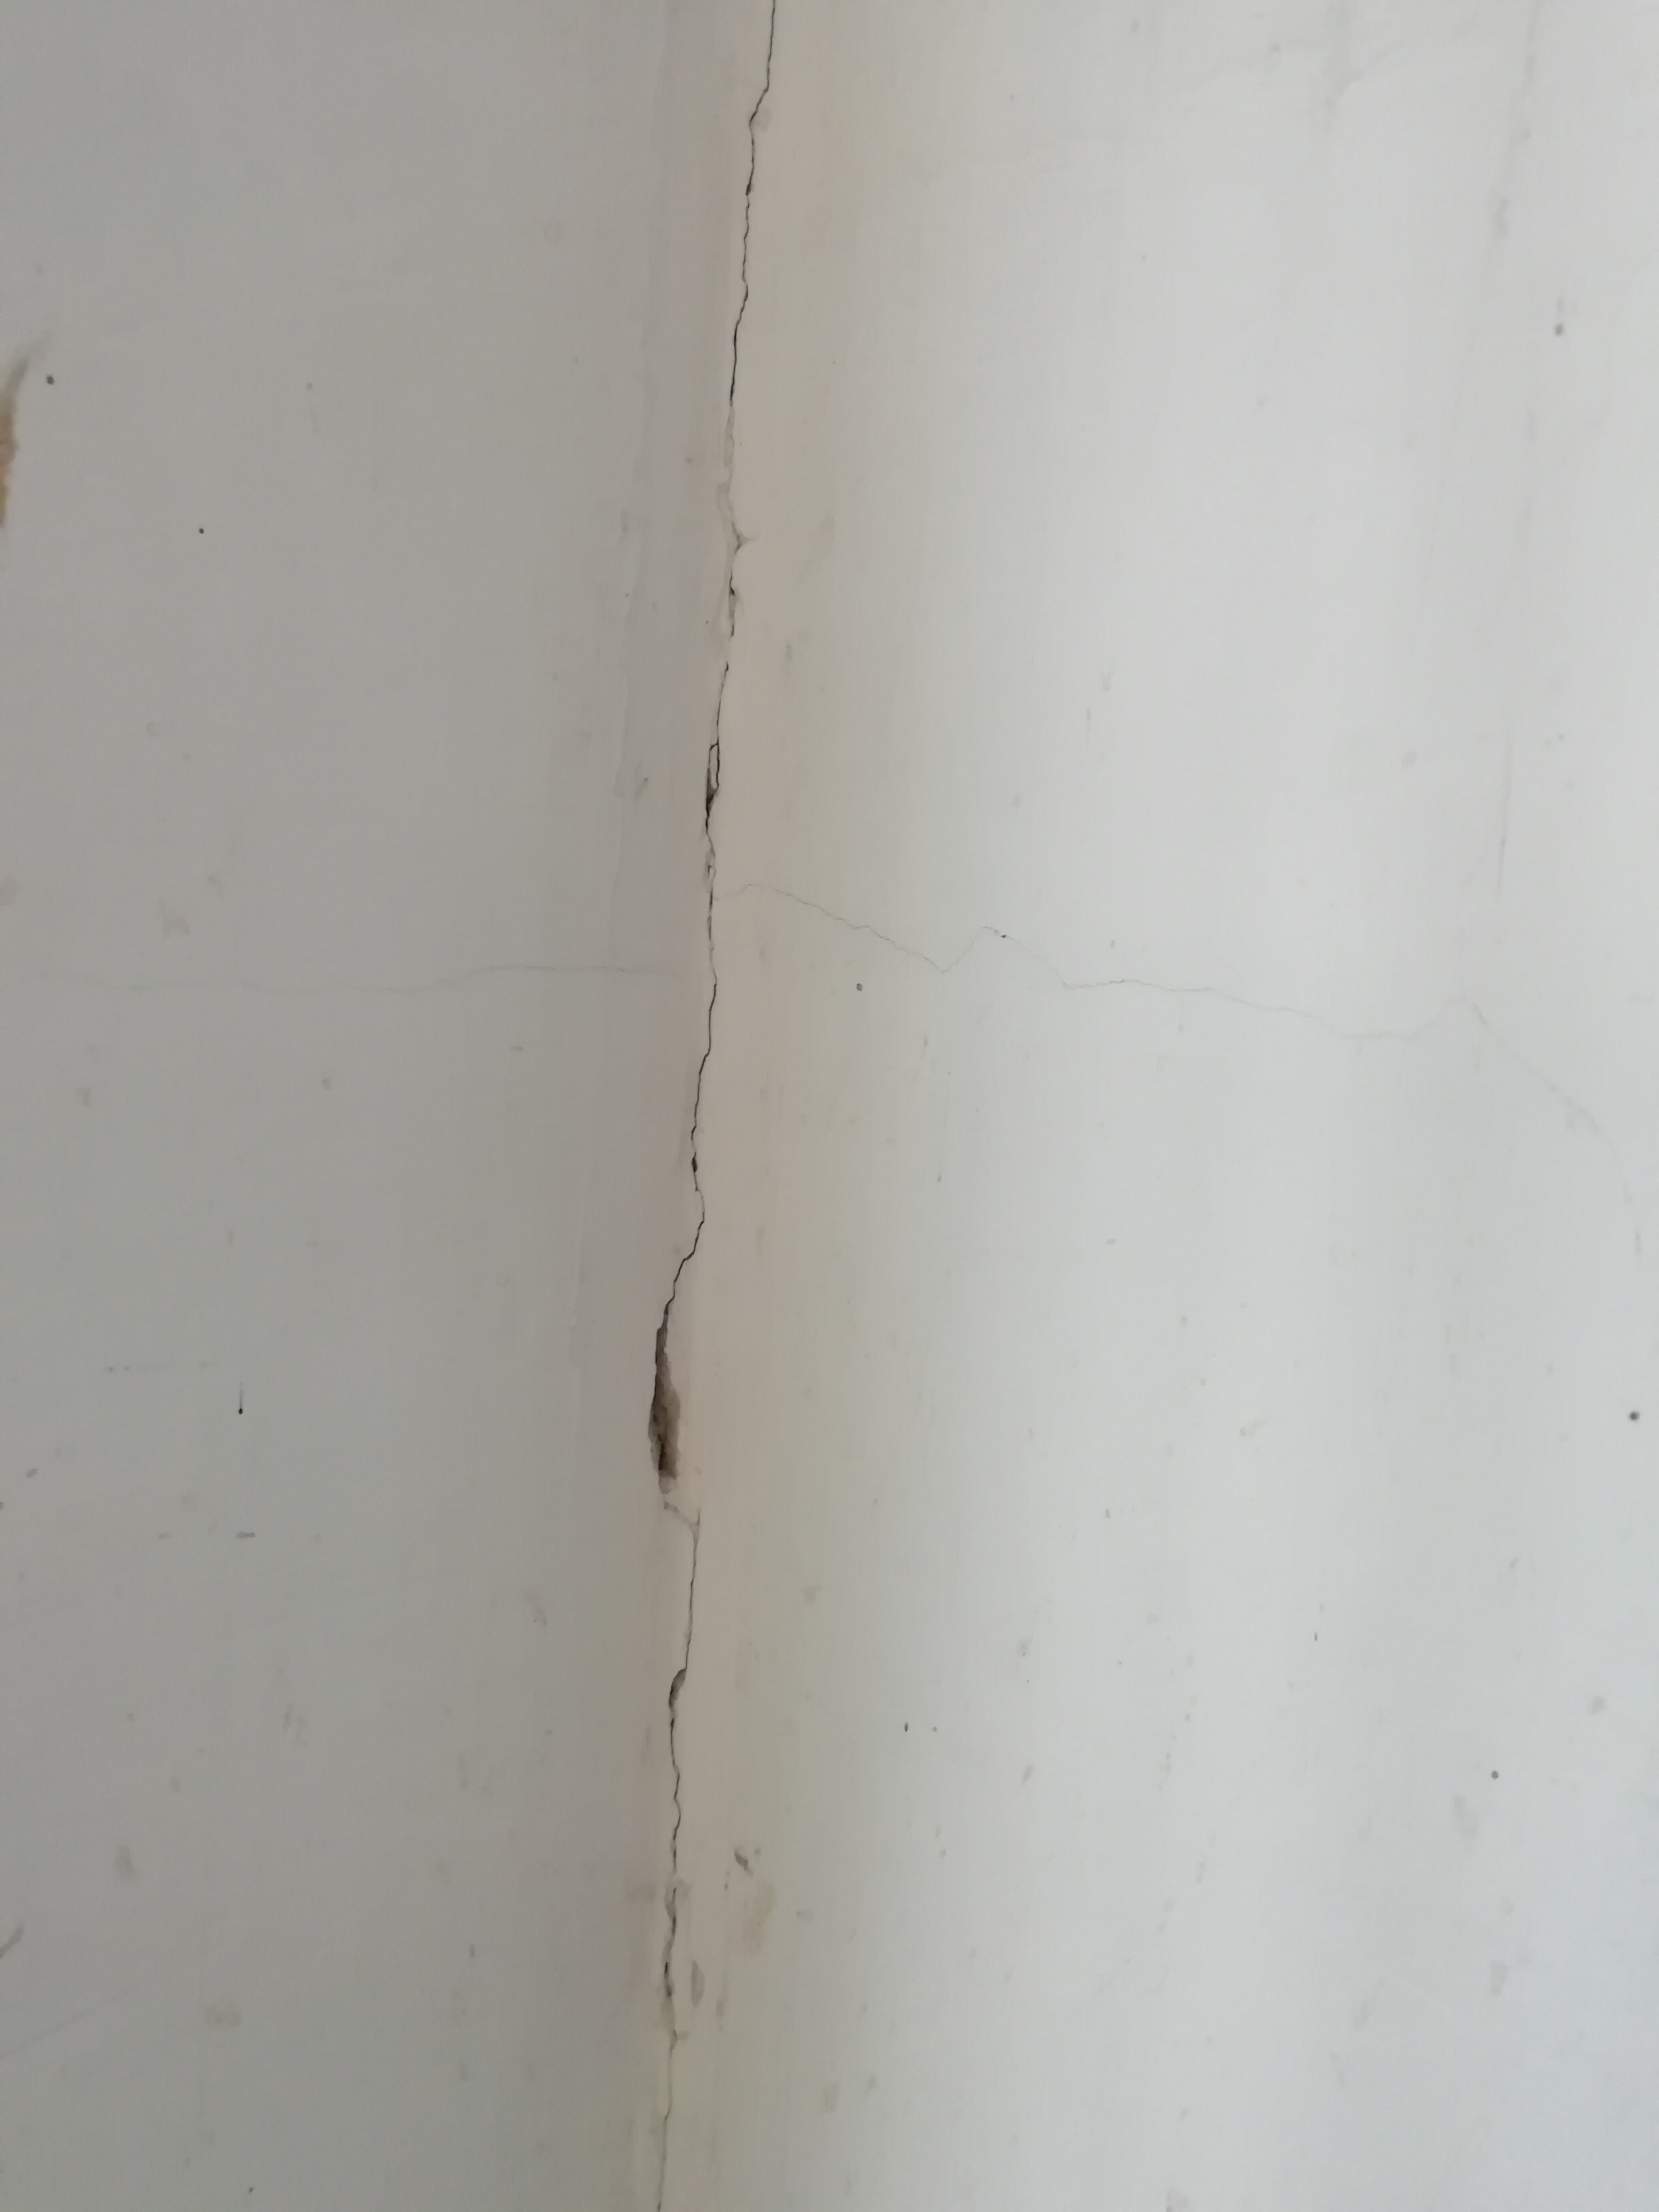Crack: (695, 0, 782, 721), (641, 1219, 701, 1893), (676, 718, 744, 1224)
